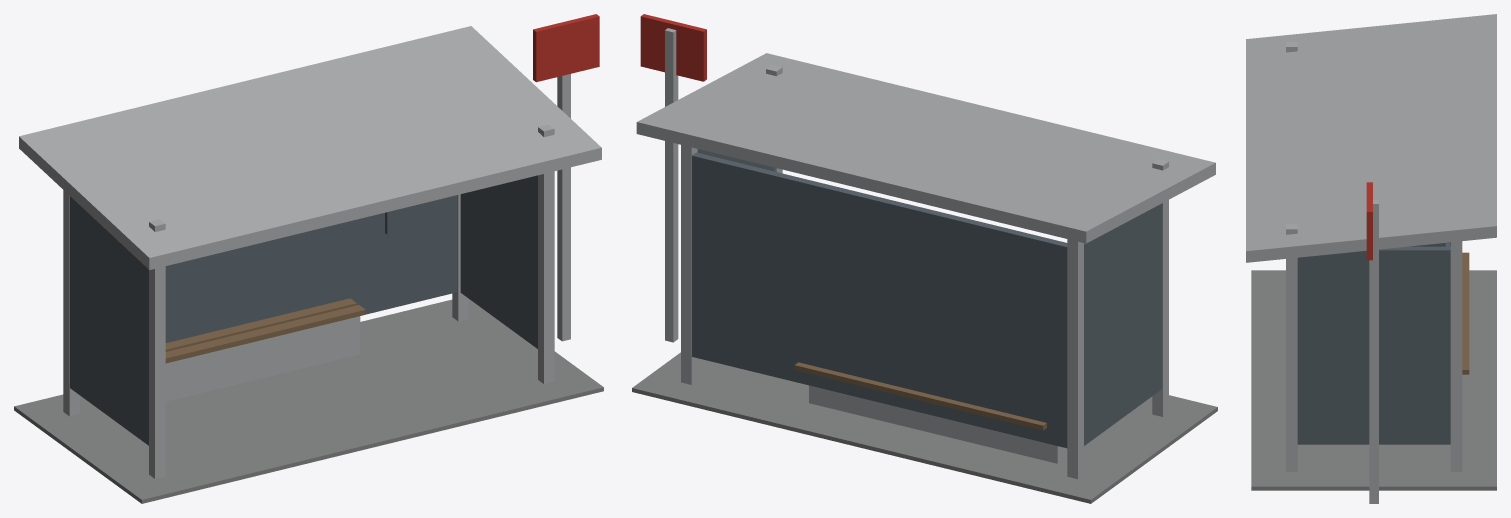
File: city_busstop.fbx
The picture shows the model from 3 angles, left to right: view 1: azimuth 30°, elevation 25°; view 2: azimuth 150°, elevation 25°; view 3: azimuth 270°, elevation 25°; orthographic projection. The views are drawn at different scales.
Parts seen in each view (by area): view 1: galv_1, glassshop_1, concrete_1, timber_1, red_1; view 2: glassshop_1, galv_1, concrete_1, red_1, timber_1; view 3: galv_1, glassshop_1, concrete_1, timber_1, red_1.
Part boxes in pixels (x1=…): galv_1: x1=19, y1=26, x2=601, y2=478; glassshop_1: x1=70, y1=175, x2=537, y2=445; concrete_1: x1=14, y1=299, x2=603, y2=503; timber_1: x1=165, y1=298, x2=365, y2=363; red_1: x1=533, y1=14, x2=599, y2=82; glassshop_1: x1=692, y1=149, x2=1162, y2=448; galv_1: x1=636, y1=28, x2=1215, y2=479; concrete_1: x1=632, y1=352, x2=1217, y2=503; red_1: x1=640, y1=14, x2=706, y2=81; timber_1: x1=794, y1=362, x2=1046, y2=430; galv_1: x1=1246, y1=14, x2=1496, y2=503; glassshop_1: x1=1297, y1=242, x2=1450, y2=444; concrete_1: x1=1251, y1=270, x2=1496, y2=490; timber_1: x1=1462, y1=252, x2=1469, y2=374; red_1: x1=1366, y1=182, x2=1372, y2=260.
Bounding box in the file's own units: 0.538 × 0.315 × 0.235.
